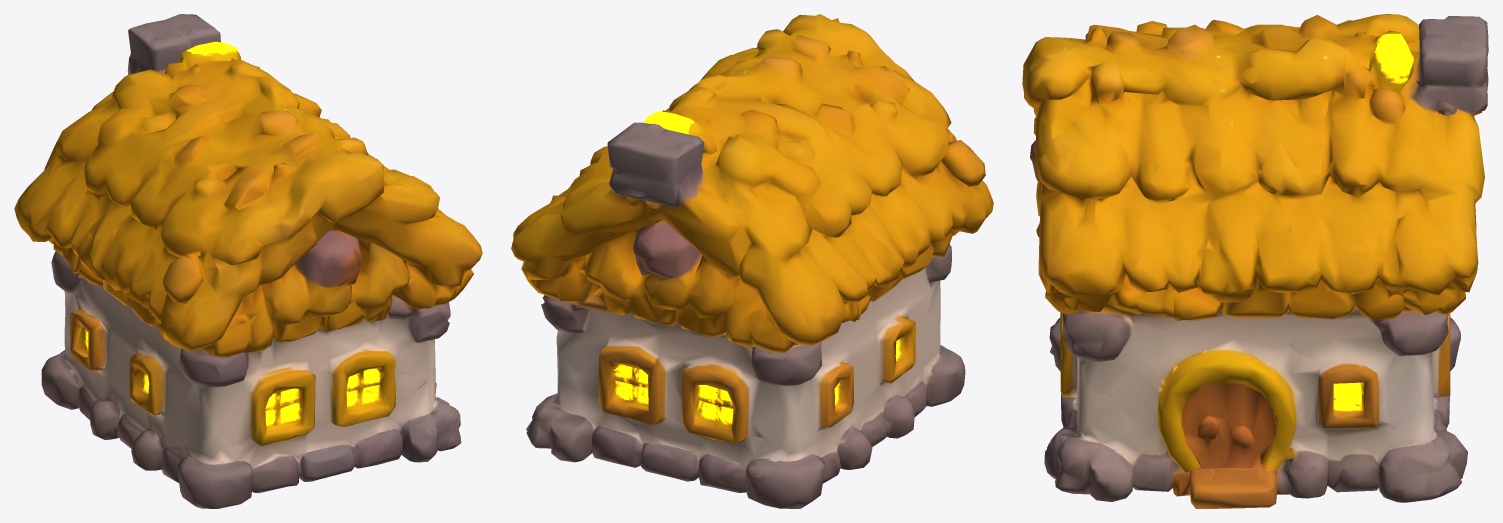
File: camp_cottage-Bt8BMNDG.glb
3 views of the same model, side by side, from view 1: azimuth 30°, elevation 25°; view 2: azimuth 150°, elevation 25°; view 3: azimuth 270°, elevation 25° (orthographic). The views are drawn at different scales.
Visible parts, largest first — view 1: tripo_node_b9642c7e-46f1-4465-9523-018c25c0004c; view 2: tripo_node_b9642c7e-46f1-4465-9523-018c25c0004c; view 3: tripo_node_b9642c7e-46f1-4465-9523-018c25c0004c.
Part boxes in pixels (x1,y1,x2,y2): tripo_node_b9642c7e-46f1-4465-9523-018c25c0004c: (14,14,482,508); tripo_node_b9642c7e-46f1-4465-9523-018c25c0004c: (511,14,993,508); tripo_node_b9642c7e-46f1-4465-9523-018c25c0004c: (1022,14,1488,508).
Size of the model in its own units: 0.9409 by 0.9464 by 1.
1 material, 1 textured.
